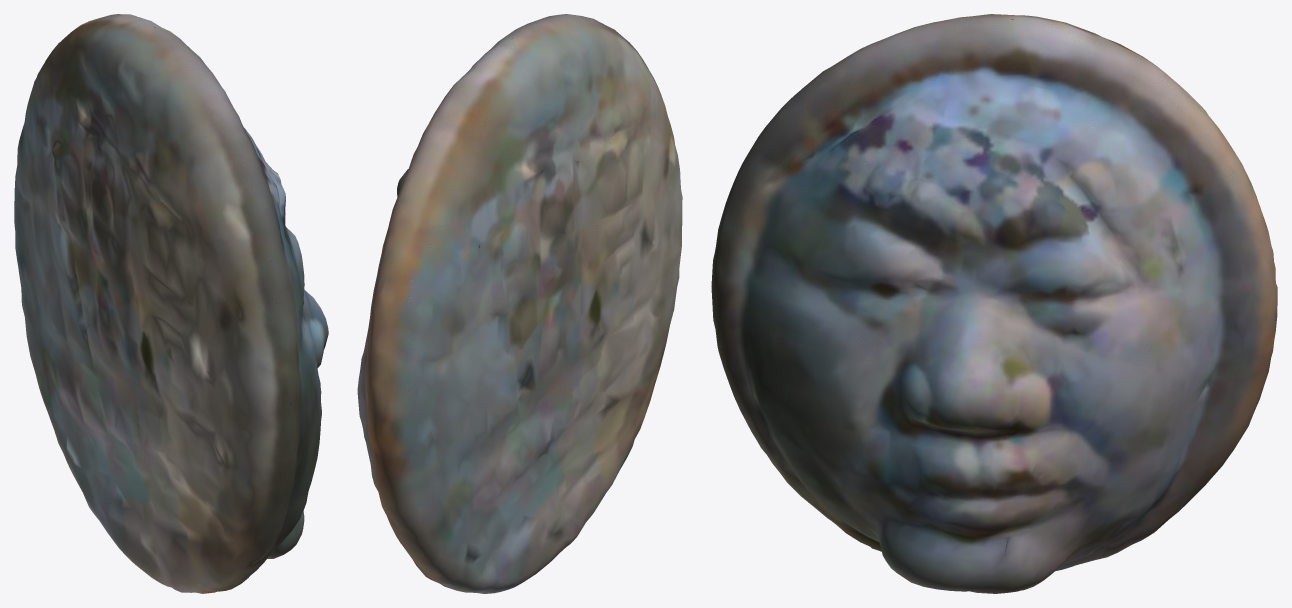
The model's file is LuanNguyen.fbx.
The picture shows the model from 3 angles, left to right: view 1: azimuth 30°, elevation 25°; view 2: azimuth 150°, elevation 25°; view 3: azimuth 270°, elevation 25°; orthographic projection. The views are drawn at different scales.
Parts seen in each view (by area): view 1: Mesh1; view 2: Mesh1; view 3: Mesh1.
Boxes of the visible parts, x1,y1,x2,y2 form: Mesh1: [14, 14, 328, 593]; Mesh1: [357, 14, 682, 593]; Mesh1: [711, 14, 1277, 593].
Size of the model in its own units: 45.87 by 120 by 110.
1 material, 1 textured.
